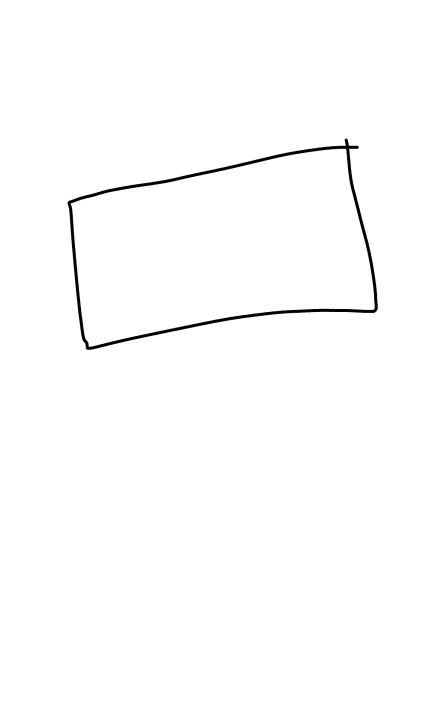Square: (60, 133, 388, 356)
